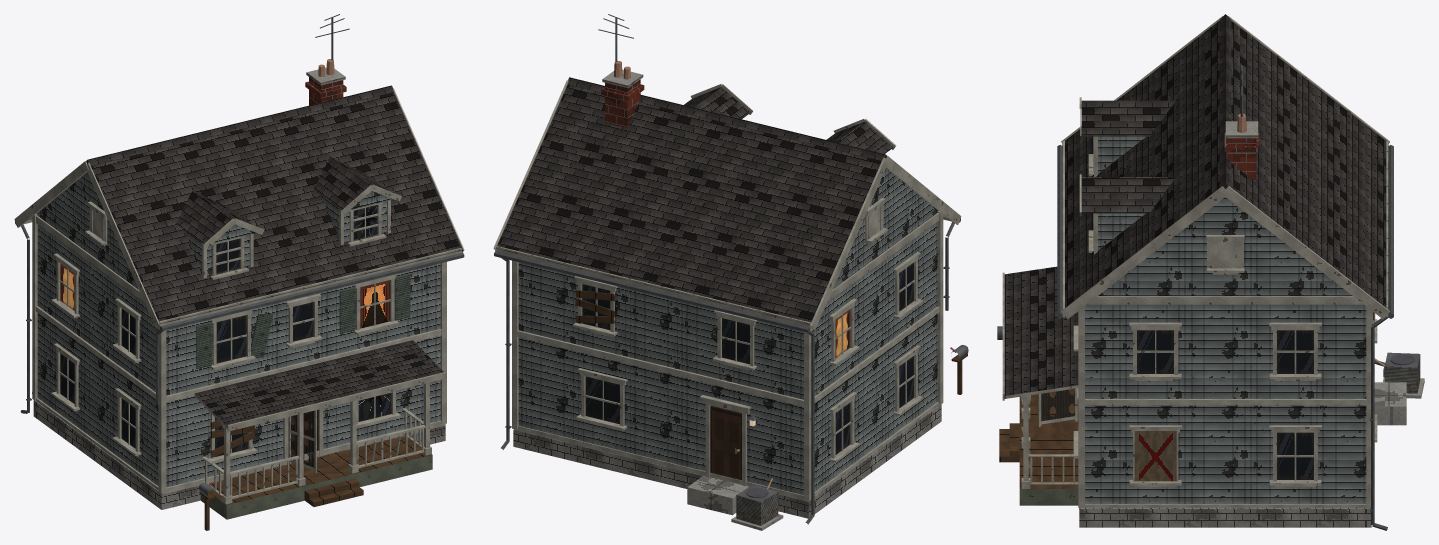
File: house_c.glb
3 views of the same model, side by side, from view 1: azimuth 30°, elevation 25°; view 2: azimuth 150°, elevation 25°; view 3: azimuth 270°, elevation 25° (orthographic). The views are drawn at different scales.
Visible parts, largest first — view 1: detail, shell-col; view 2: detail, shell-col; view 3: detail, shell-col.
Boxes of the visible parts, bbox=[...] form: detail: bbox=[14, 14, 464, 530]; shell-col: bbox=[33, 215, 445, 519]; detail: bbox=[493, 14, 968, 530]; shell-col: bbox=[513, 212, 941, 518]; detail: bbox=[997, 14, 1424, 530]; shell-col: bbox=[999, 295, 1406, 527].
Size of what is drawn, in the model's own units: 9.82 by 11.74 by 10.39.
Materials: 27 (27 with a texture image).
